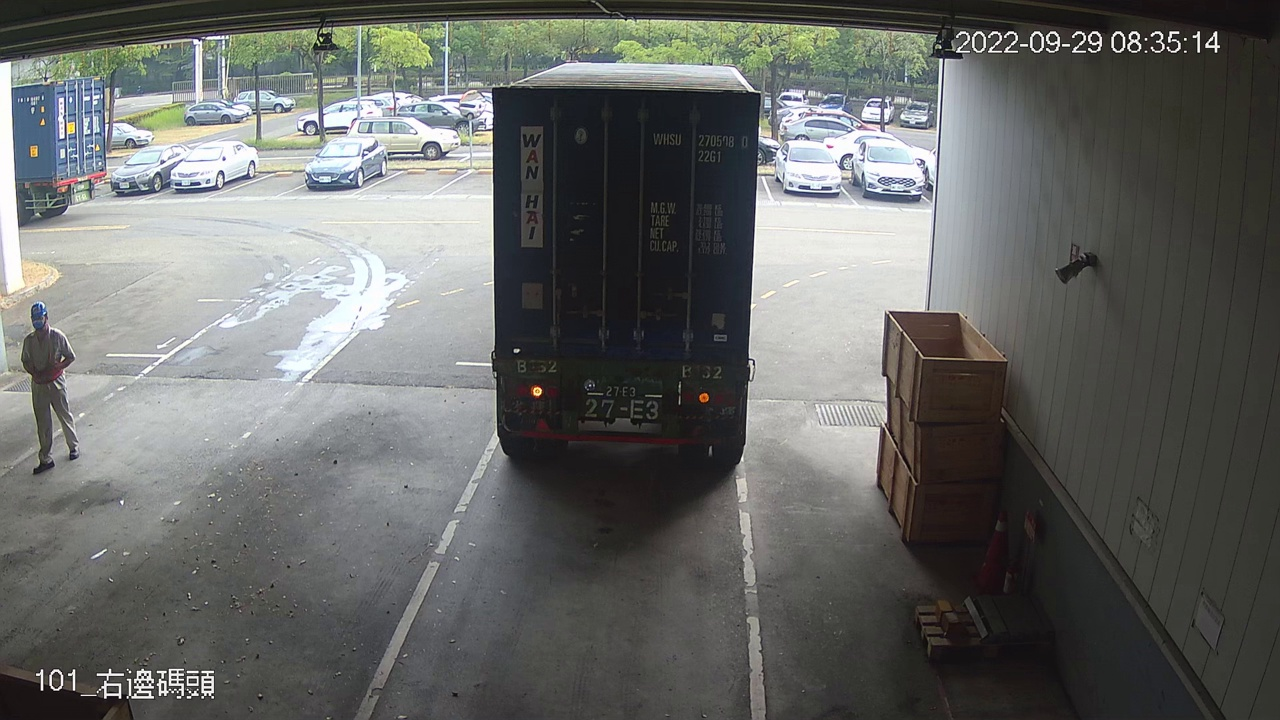container: (648, 126, 754, 169)
